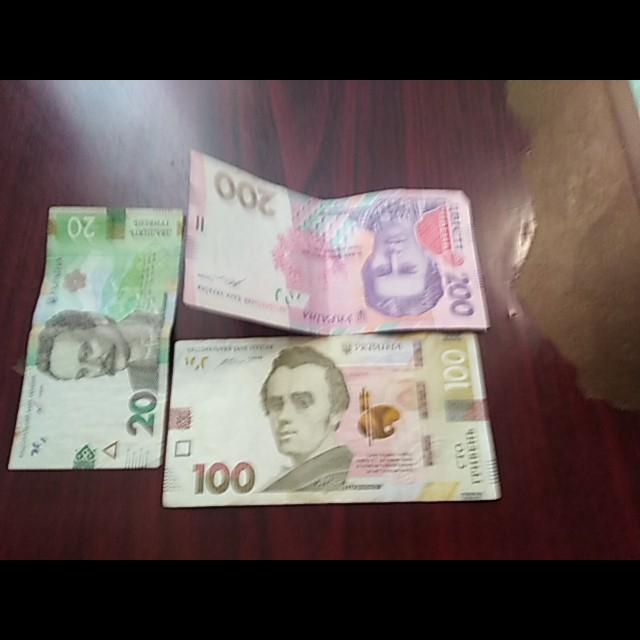100uah: (161, 334, 500, 507)
200uah: (184, 148, 486, 333)
20uah: (7, 208, 182, 470)
